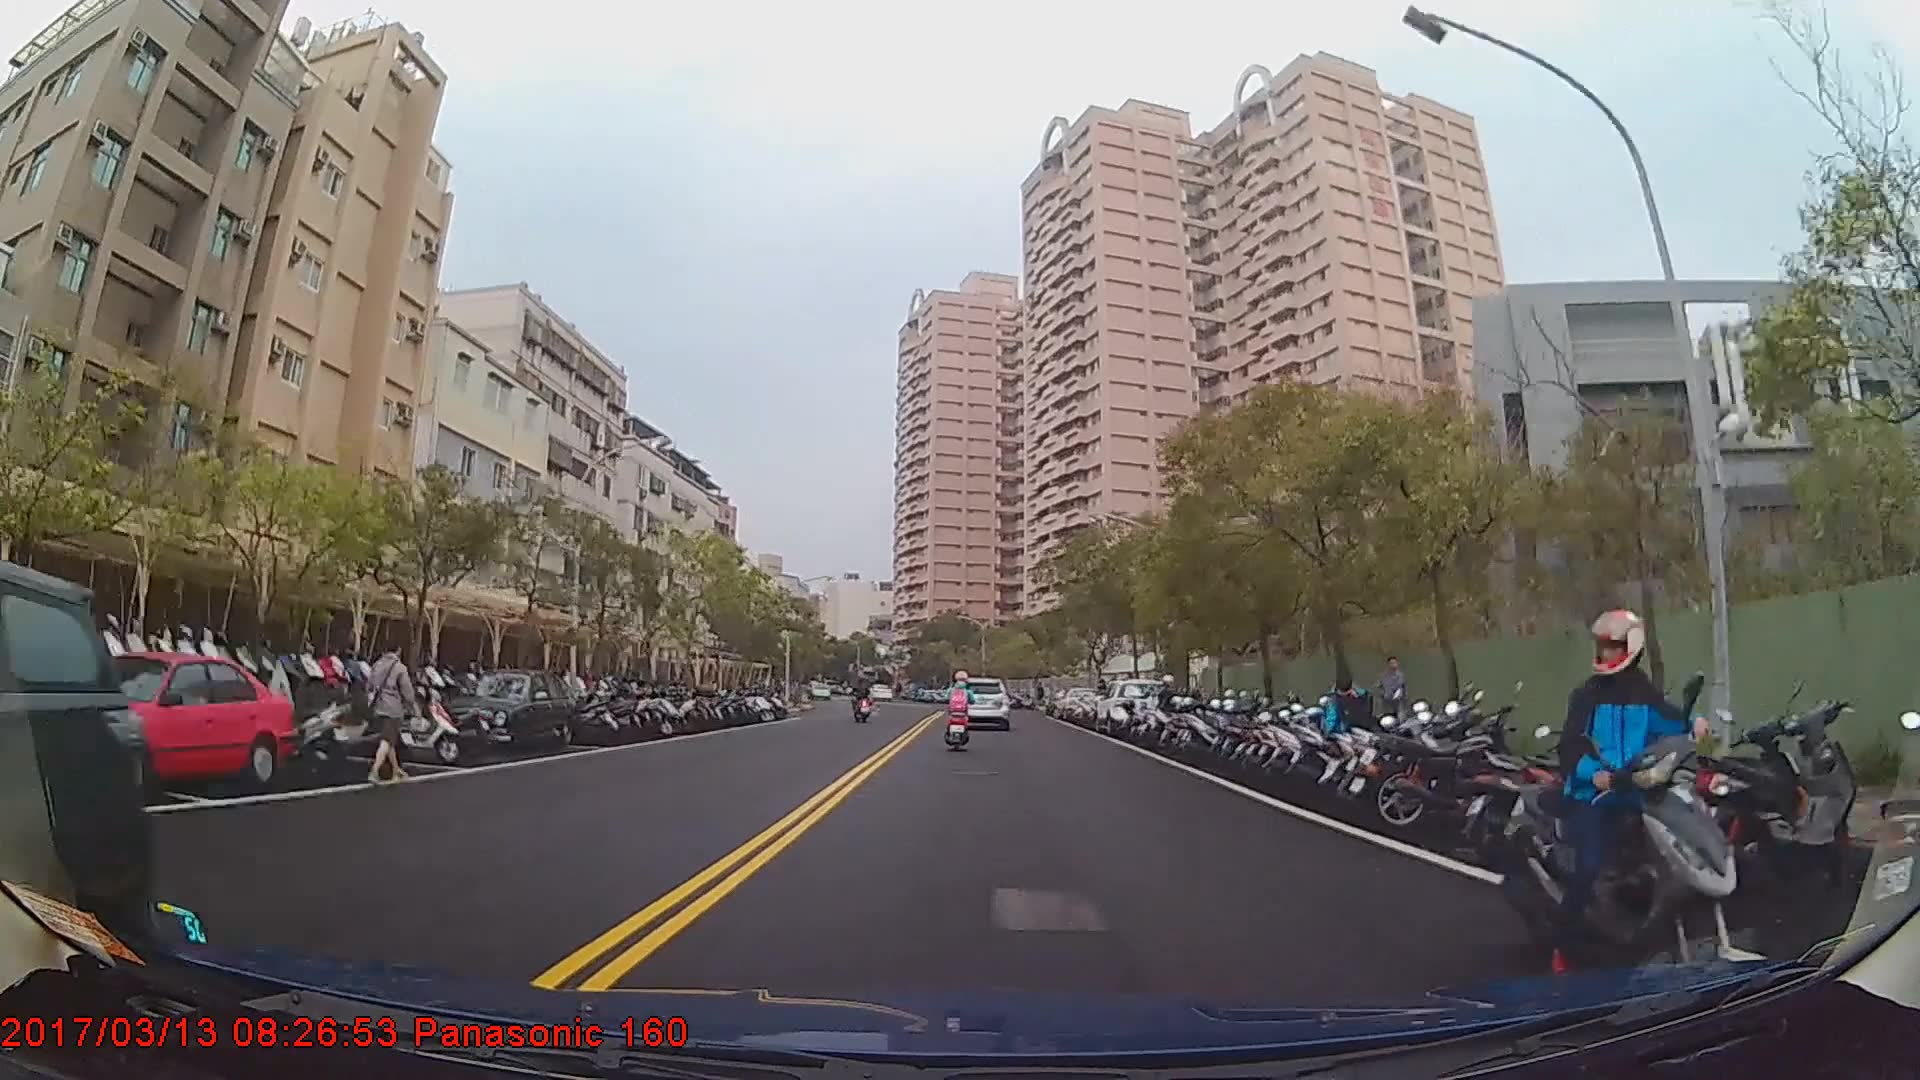pedestrian: (358, 633, 430, 788), (1322, 673, 1377, 791), (1372, 655, 1409, 756)
rider: (1494, 612, 1688, 1017), (944, 673, 977, 749), (852, 680, 873, 724)
vehicle: (0, 555, 155, 990), (40, 656, 297, 793), (444, 668, 574, 753), (1095, 677, 1176, 737), (953, 676, 1010, 728)
